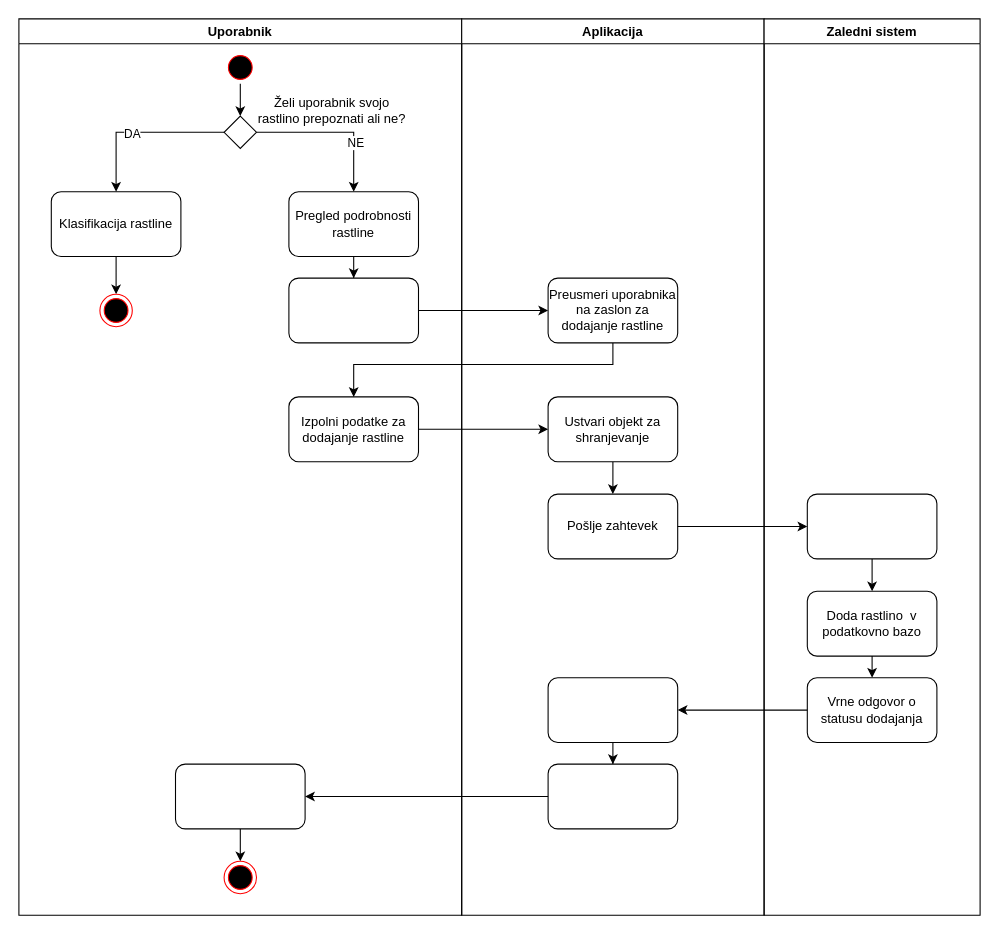
Some shapes in this 999 by 934 pixel diagram are drawn without their labels. Here are the shapes that lost their labels. From the top down, the centre of each, then its label:
At pixel 353 310: "Klikne na gumb Shrani rastlino".
At pixel 871 526: "Prejme zahtevek".
At pixel 612 709: "Prejme odgovor".
At pixel 239 796: "Pregleda rastline, ki jih že ima v vrtu".
At pixel 612 796: "Preusmeri na zaslon za virtualni vrt".
